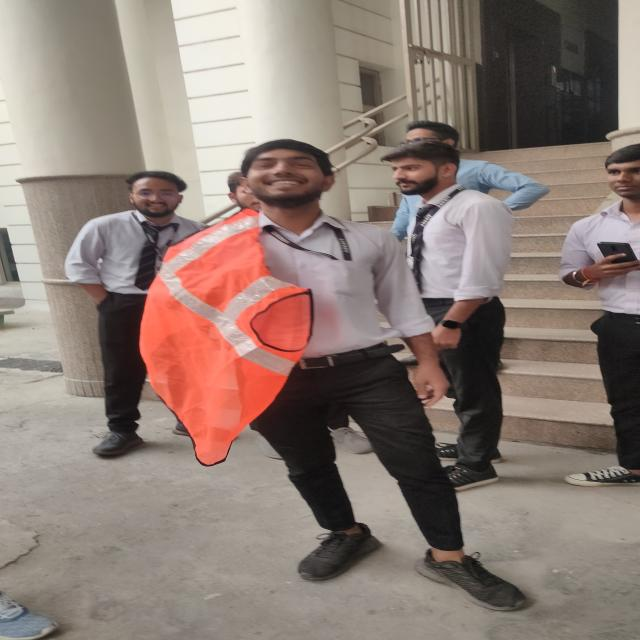unsafe: (145, 139, 540, 614), (369, 139, 510, 488), (70, 169, 224, 461), (562, 145, 640, 488)
